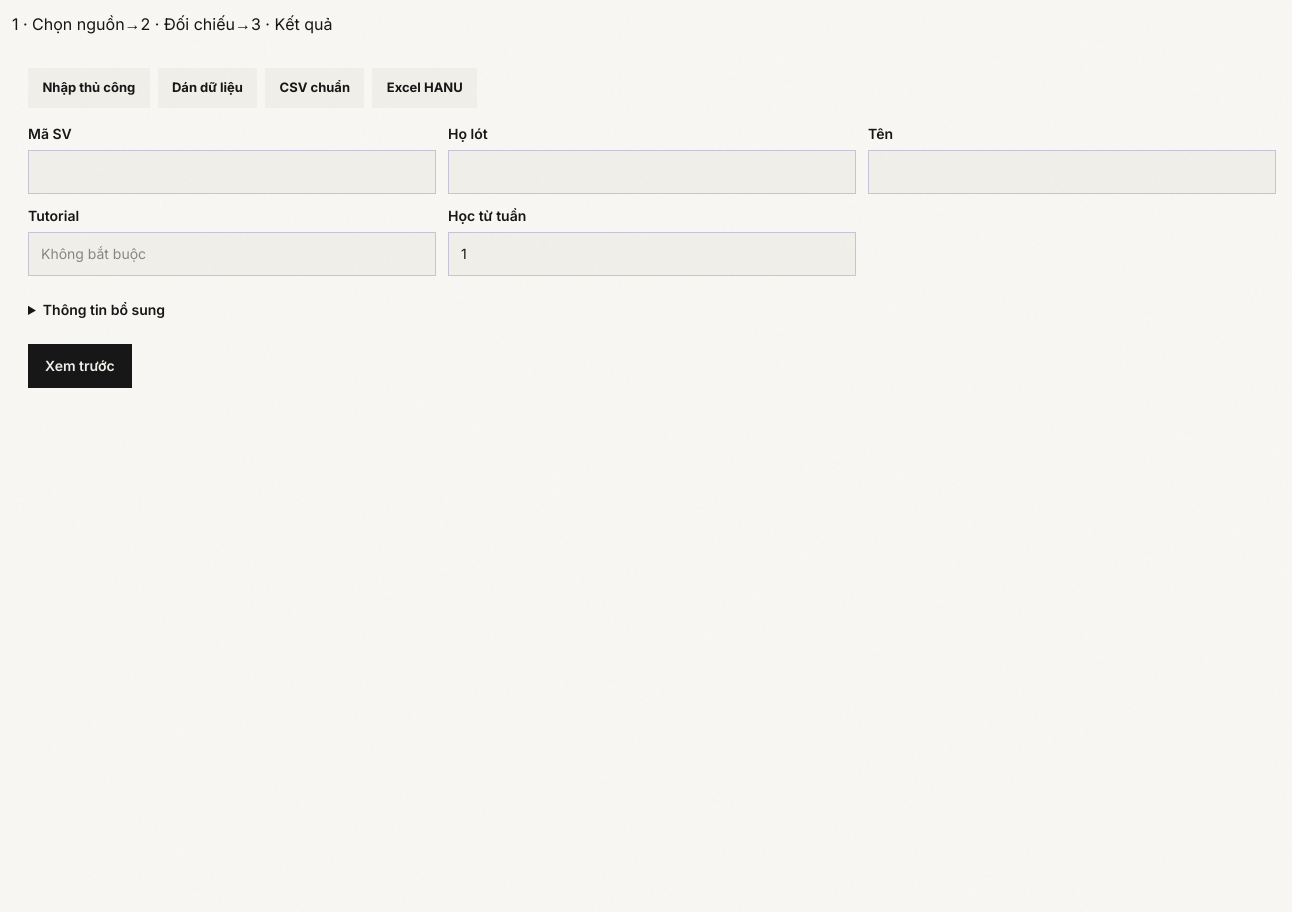
StudentIntakeWorkspace › does not allow commit while a row is invalid
Click the tab "Dán dữ liệu": (207, 88) [158, 68, 257, 108]
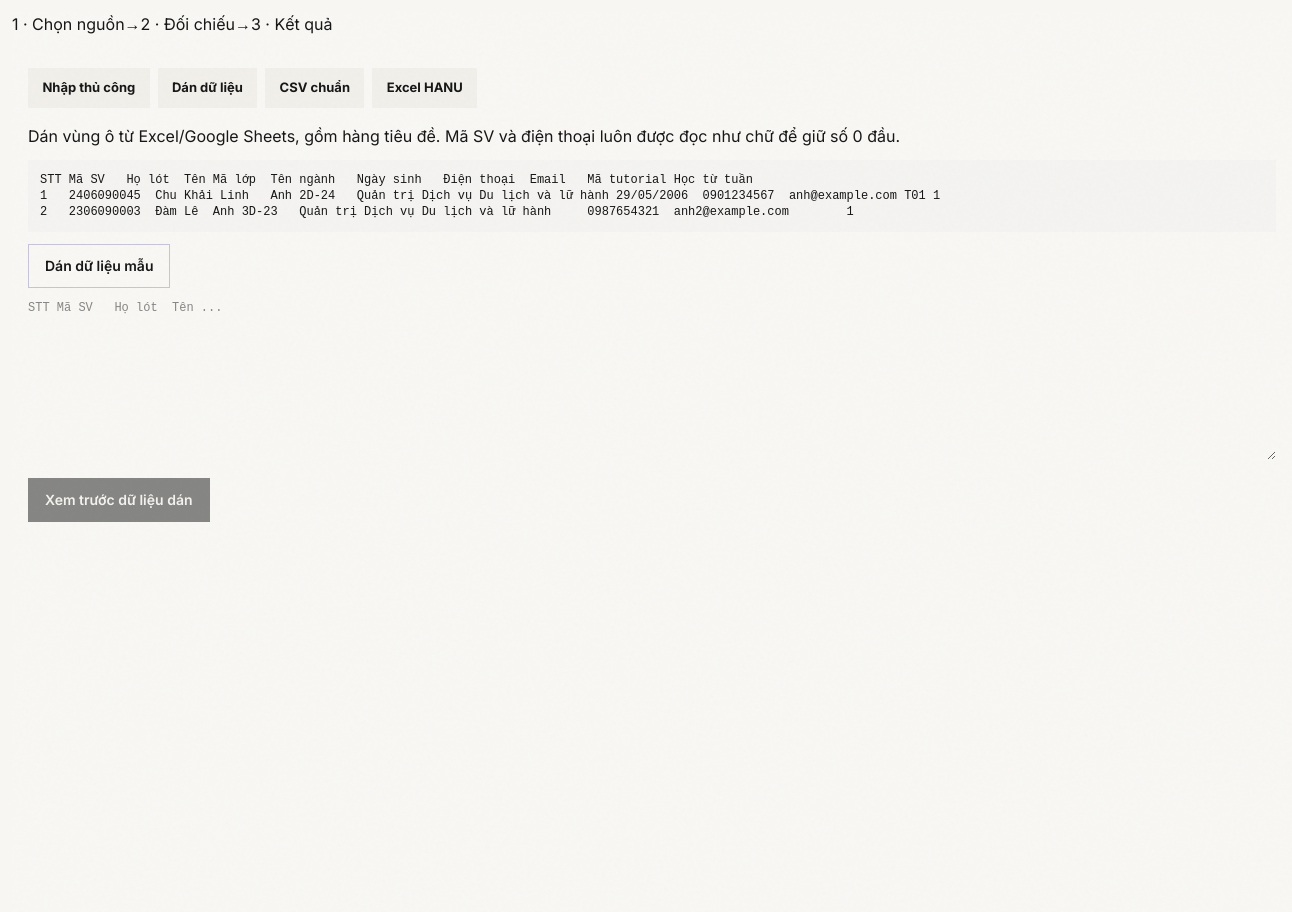
In the text box: (652, 380) [28, 300, 1276, 460], type "bad"
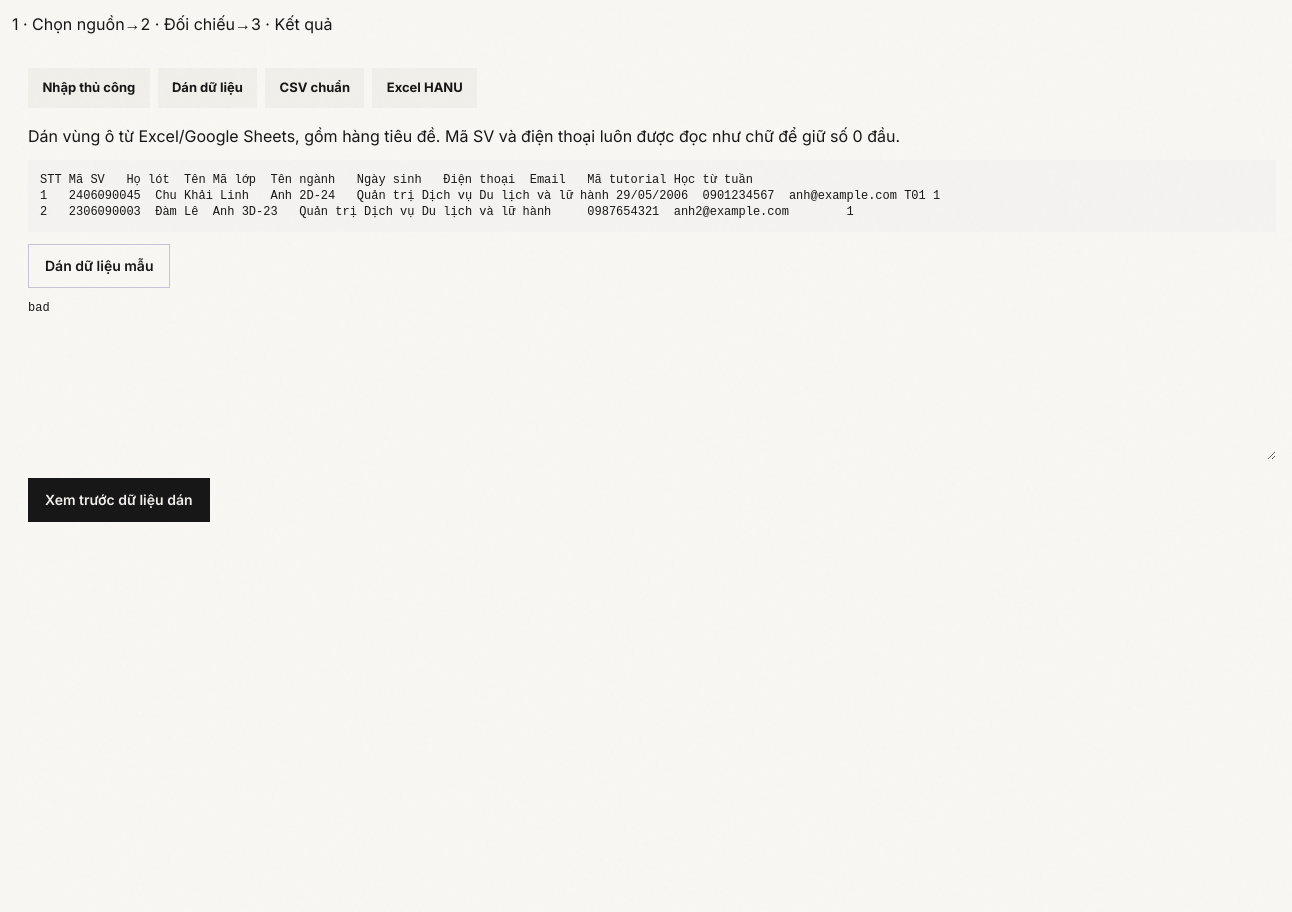
Click the button "Xem trước dữ liệu dán": (119, 500) [28, 478, 210, 522]
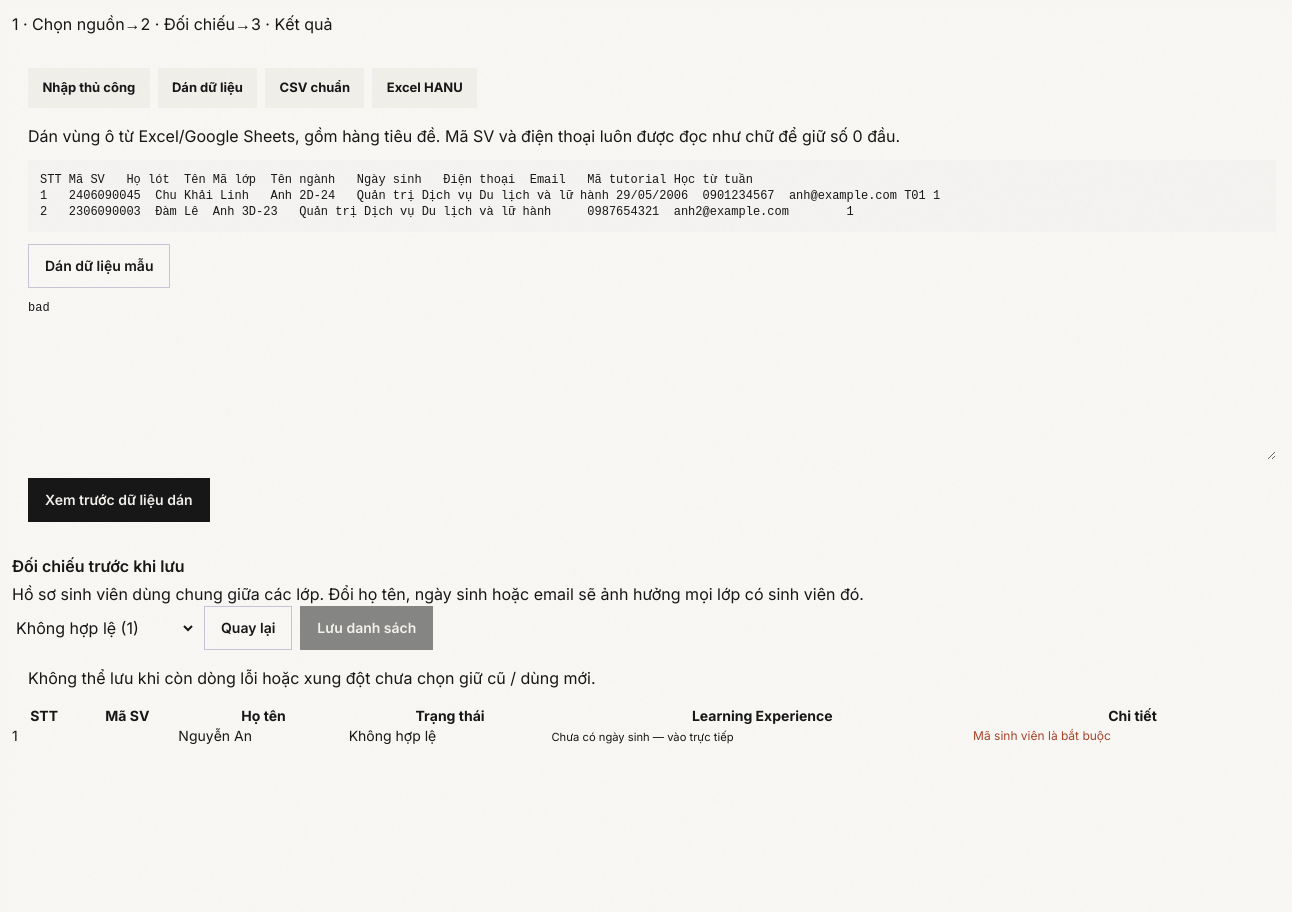
Now the list item "Mã sinh viên là bắt buộc" is shown, box [973, 728, 1111, 743]
Now the button "Lưu danh sách" is disabled, box [300, 606, 433, 650]
